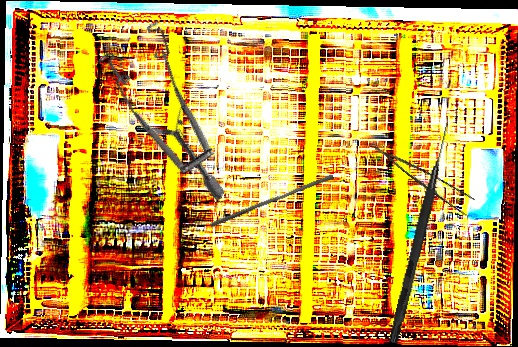Hook Surgical: (388, 121, 452, 345)
Pusher: (209, 169, 335, 233)
Speculum: (68, 4, 284, 203)
Tissue Forceps: (374, 131, 480, 221)
